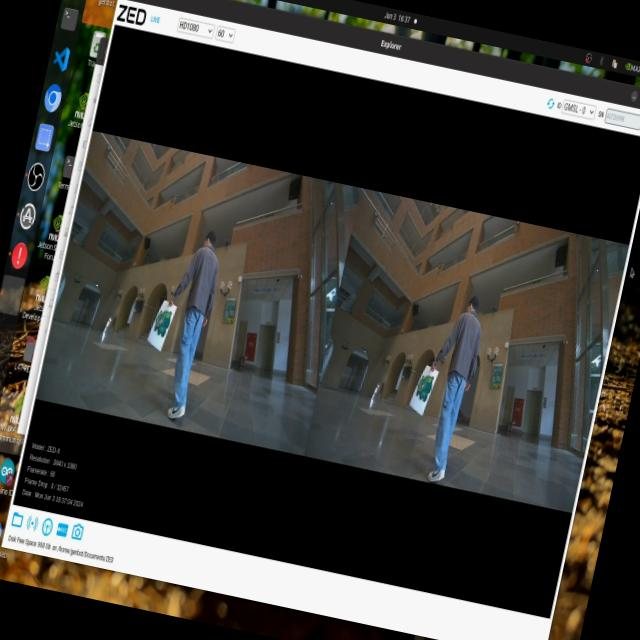green: (150, 306, 176, 339), (416, 374, 437, 402)
